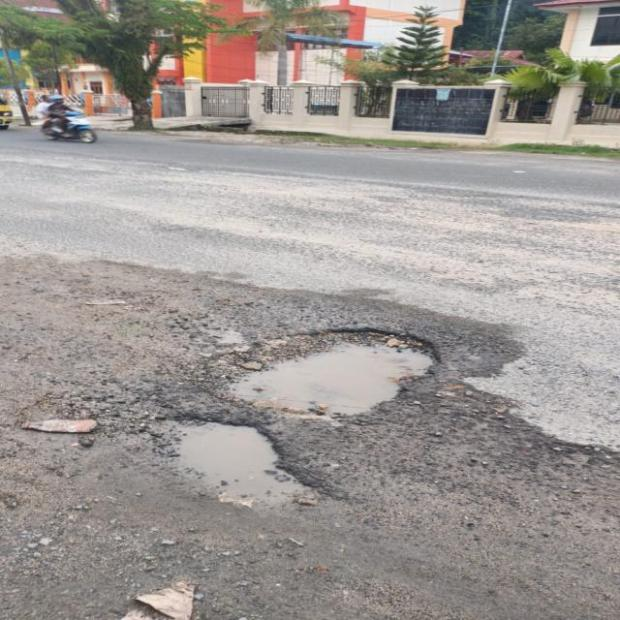lubang: (230, 329, 433, 419), (159, 422, 316, 510)
